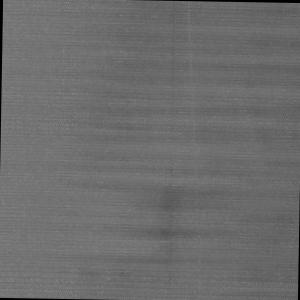Wrinkle: (75, 1, 300, 300)
